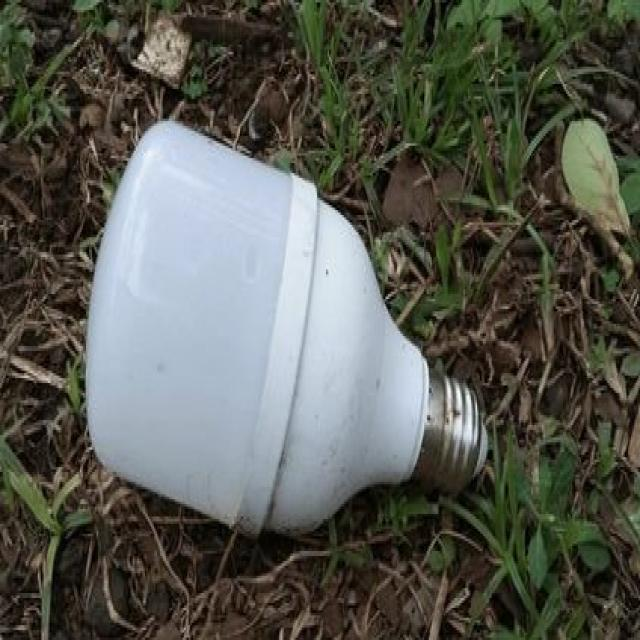electronic: (83, 116, 488, 539)
